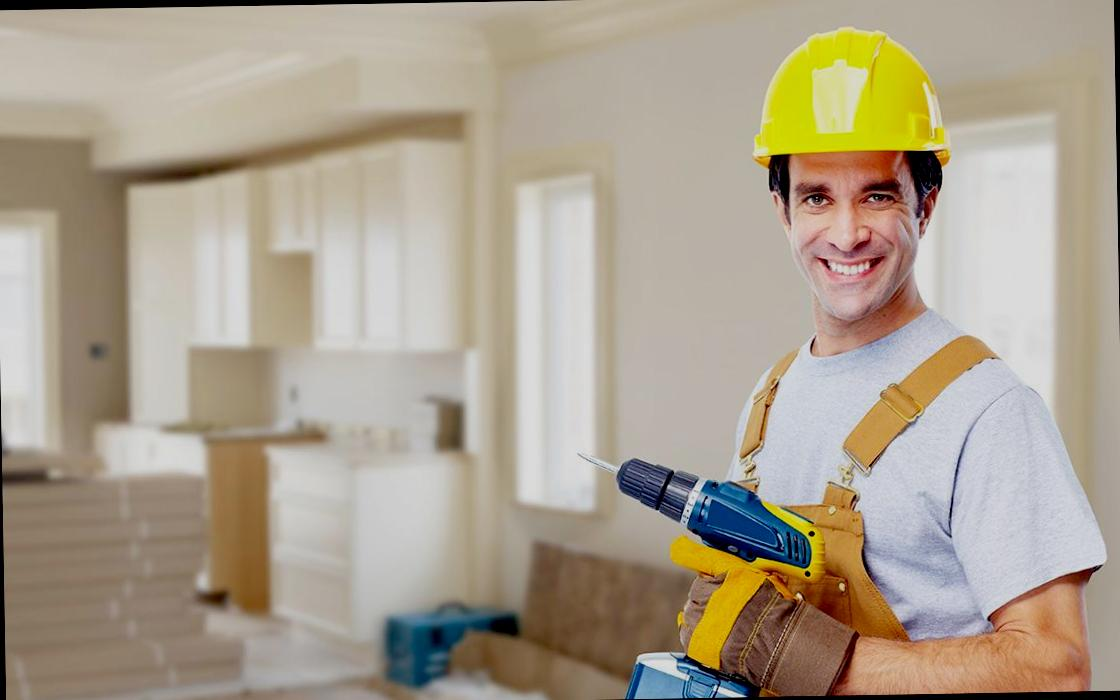helmet: (723, 19, 978, 183)
no_vest: (672, 317, 1074, 688)
person: (627, 8, 1120, 698)
